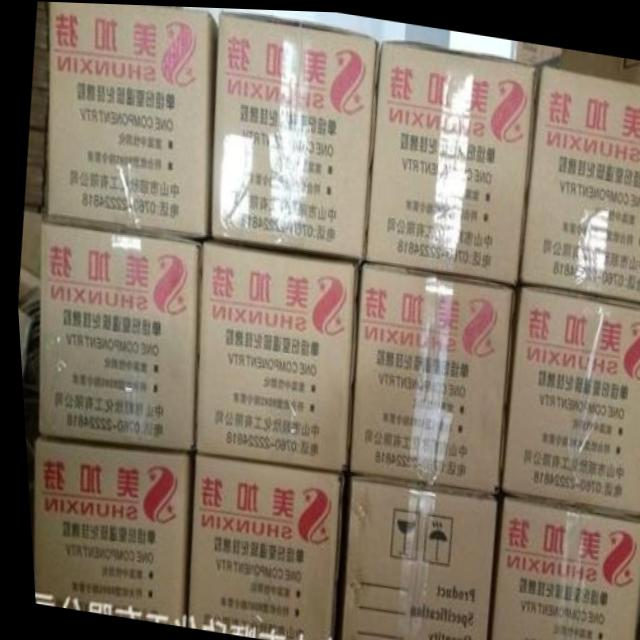box: (361, 37, 538, 281), (208, 6, 379, 257), (187, 235, 361, 472), (342, 257, 516, 490), (43, 1, 215, 236), (31, 214, 199, 450), (495, 281, 640, 513), (178, 450, 341, 640), (25, 432, 186, 624), (516, 60, 640, 299), (328, 472, 495, 640), (481, 490, 640, 640)
